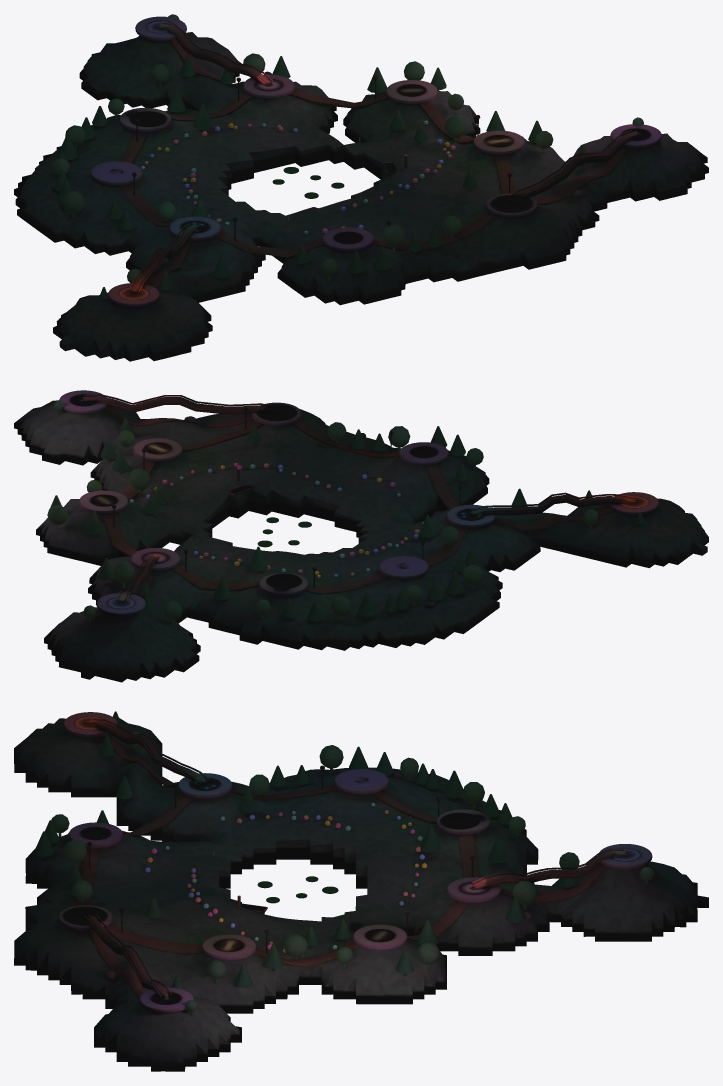
Rendered from terrain-night.glb.
3 renders of one model, top to bottom at view 1: azimuth 30°, elevation 25°; view 2: azimuth 150°, elevation 25°; view 3: azimuth 270°, elevation 25°, orthographic. The views are drawn at different scales.
Visible parts, largest first — view 1: terrain_night; view 2: terrain_night; view 3: terrain_night.
Boxes of the visible parts, box(x1,y1,x2,y2) form: terrain_night: box(14, 14, 708, 361); terrain_night: box(14, 390, 708, 682); terrain_night: box(14, 711, 708, 1071).
Size of the model in its own units: 15.74 by 1.22 by 13.34.
Materials: 1 (1 with a texture image).
